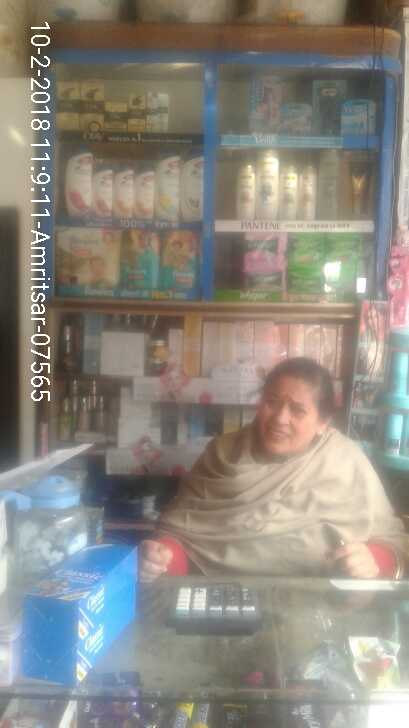venus: (251, 80, 284, 135), (315, 80, 339, 135), (338, 100, 377, 133), (284, 101, 313, 135)
